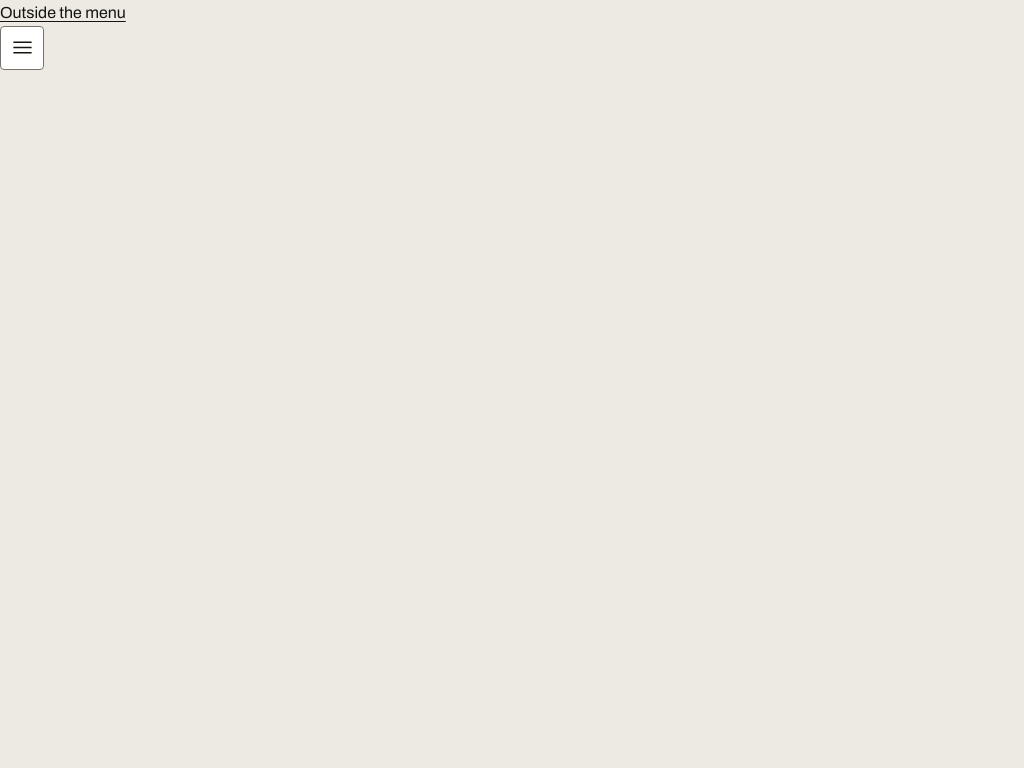
Test: following a link closes the menu
Click the button named "Open menu".
click(22, 48)  # box x1=0 y1=26 x2=44 y2=70
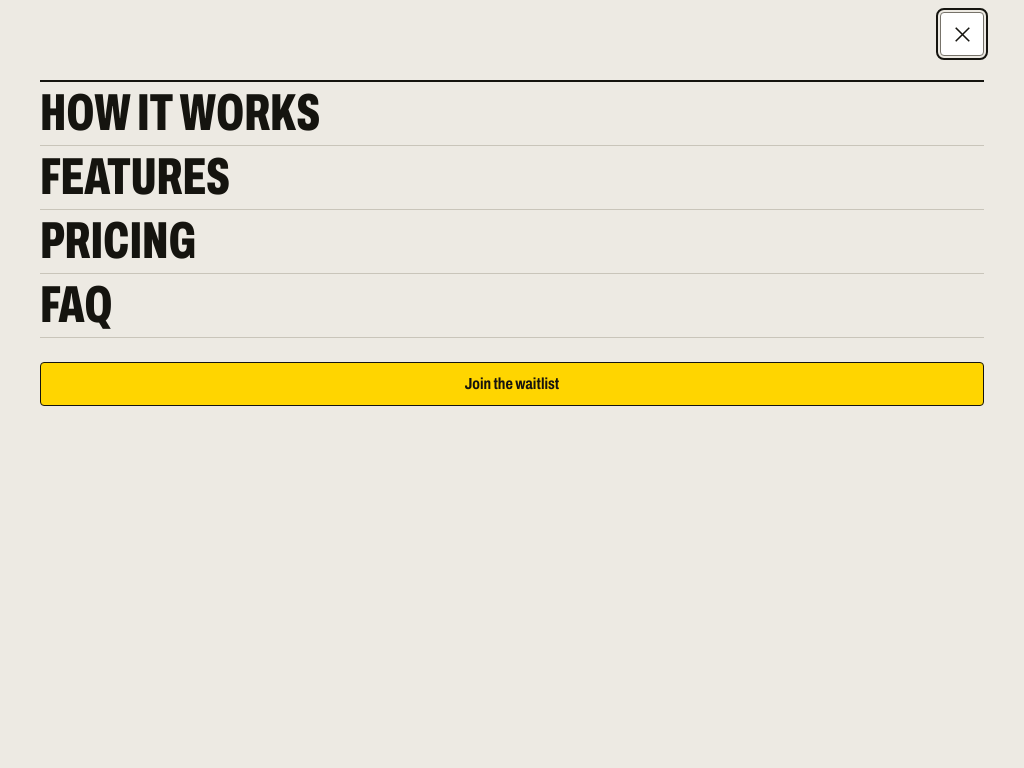
Click the link "How it works".
click(180, 113)  # box x1=40 y1=82 x2=984 y2=146
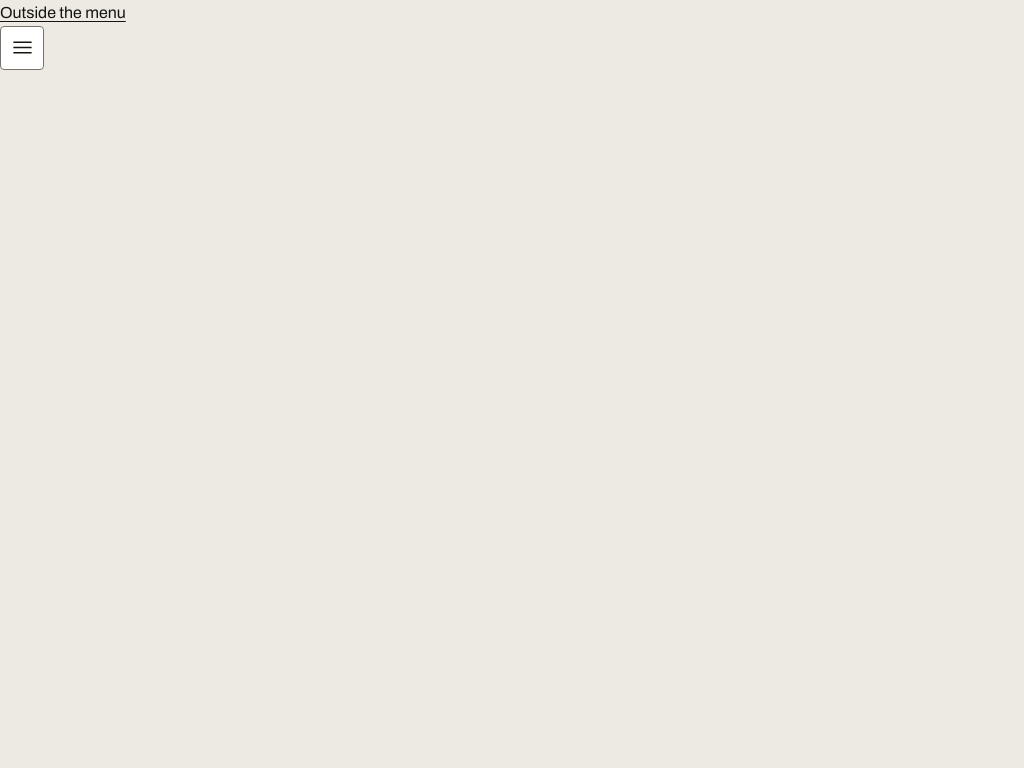
Check: the dialog is gone
